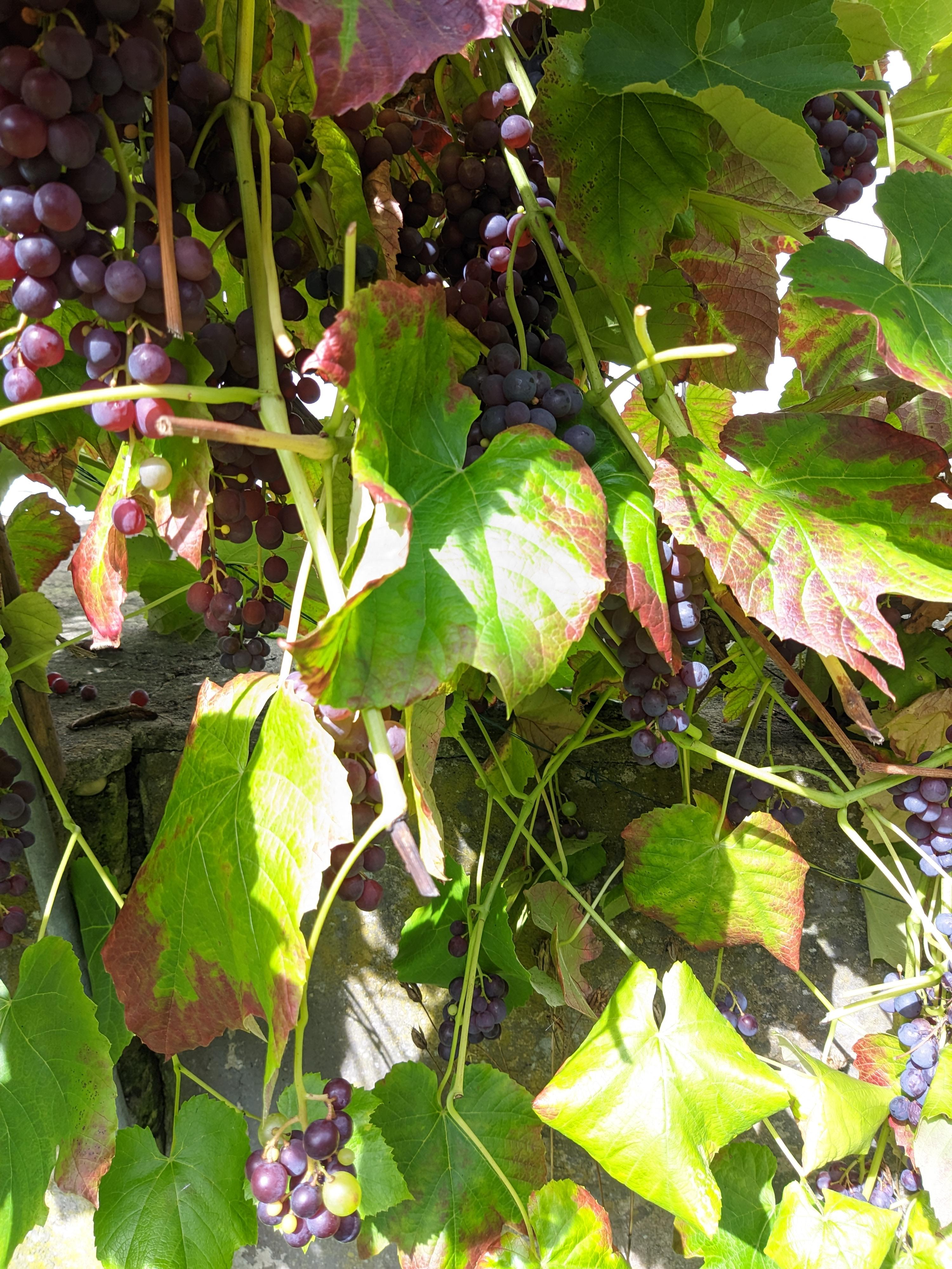Grape Ripe: (0, 0, 223, 537), (195, 67, 444, 325), (438, 85, 600, 469), (185, 310, 322, 677), (590, 534, 709, 768), (245, 1078, 363, 1249), (323, 706, 408, 913), (879, 973, 952, 1193), (803, 63, 890, 215), (435, 920, 510, 1063), (887, 725, 952, 876), (0, 746, 36, 946), (729, 777, 806, 831), (506, 11, 558, 71)
